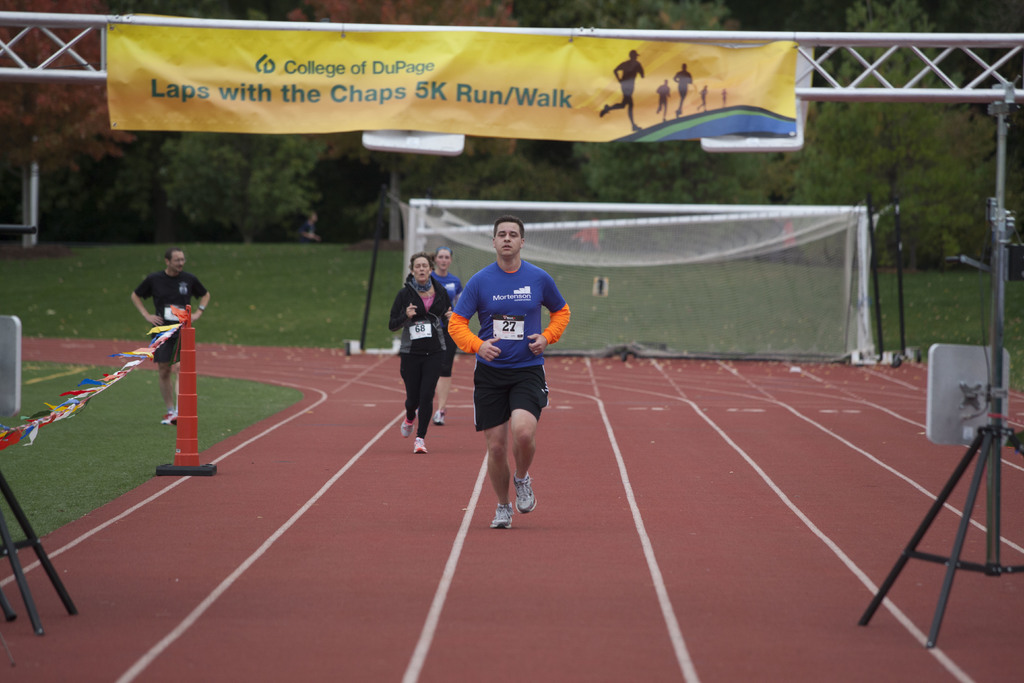Person: (429, 246, 462, 429)
